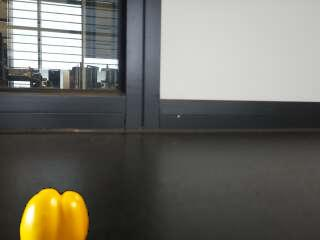Capsicum: (19, 188, 90, 240)
